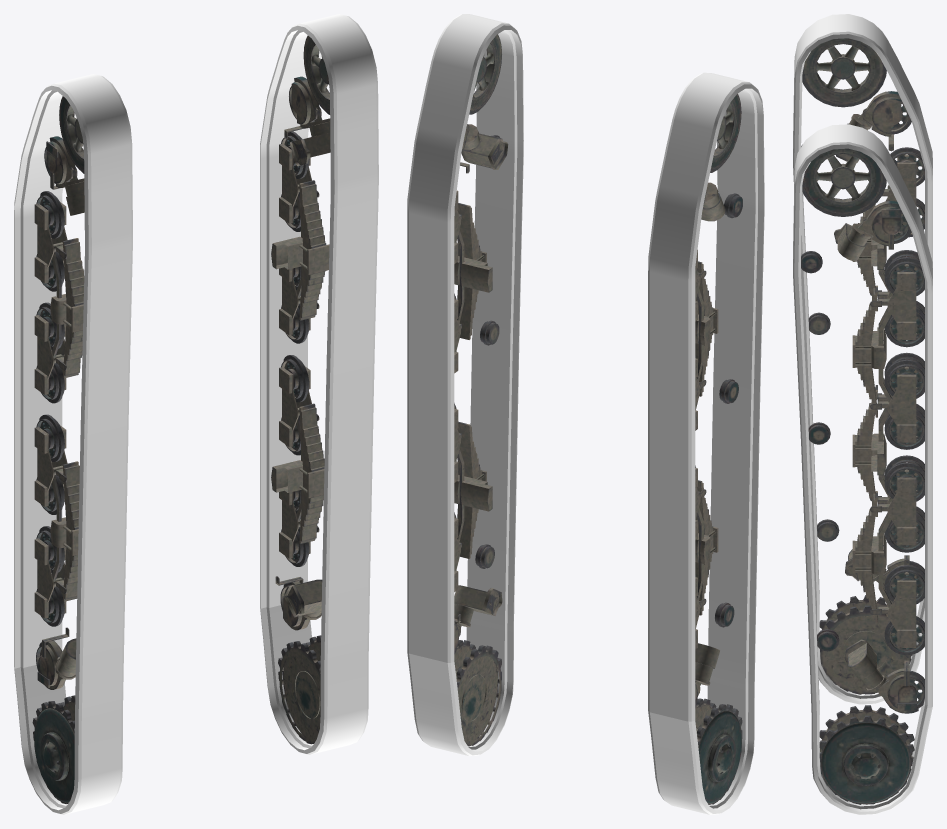
The model's file is Chassis.glb.
3 views of the same model, side by side, from view 1: azimuth 30°, elevation 25°; view 2: azimuth 150°, elevation 25°; view 3: azimuth 270°, elevation 25° (orthographic). The views are drawn at different scales.
Visible parts, largest first — view 1: set_3_group_0, set_1_group_0, set_5_group_0, set_7_group_0, set_6_group_0, set_4_group_0, set_2_group_0, set_0_group_0; view 2: set_3_group_0, set_1_group_0, set_5_group_0, set_7_group_0, set_0_group_0, set_2_group_0, set_4_group_0, set_6_group_0; view 3: set_5_group_0, set_7_group_0, set_1_group_0, set_4_group_0, set_3_group_0, set_2_group_0, set_0_group_0, set_6_group_0.
Boxes of the visible parts, left/top/right/bottom form: set_3_group_0: left=14, top=83, right=132, bottom=814; set_1_group_0: left=260, top=23, right=378, bottom=754; set_5_group_0: left=271, top=35, right=330, bottom=744; set_7_group_0: left=32, top=96, right=84, bottom=804; set_6_group_0: left=34, top=136, right=84, bottom=618; set_4_group_0: left=279, top=76, right=330, bottom=558; set_2_group_0: left=21, top=74, right=111, bottom=159; set_0_group_0: left=267, top=14, right=357, bottom=99; set_3_group_0: left=648, top=72, right=764, bottom=814; set_1_group_0: left=407, top=14, right=523, bottom=756; set_5_group_0: left=454, top=34, right=508, bottom=746; set_7_group_0: left=695, top=93, right=742, bottom=804; set_0_group_0: left=414, top=14, right=504, bottom=152; set_2_group_0: left=655, top=73, right=745, bottom=211; set_4_group_0: left=454, top=124, right=479, bottom=591; set_6_group_0: left=695, top=182, right=719, bottom=649; set_5_group_0: left=801, top=148, right=924, bottom=804; set_7_group_0: left=801, top=38, right=924, bottom=694; set_1_group_0: left=793, top=125, right=932, bottom=814; set_4_group_0: left=847, top=200, right=916, bottom=647; set_3_group_0: left=793, top=15, right=932, bottom=704; set_2_group_0: left=832, top=14, right=919, bottom=124; set_0_group_0: left=832, top=124, right=919, bottom=234; set_6_group_0: left=849, top=91, right=916, bottom=501.
Bounding box in the file's own units: 2.25 × 5.37 × 1.01.
8 materials, 4 textured.
